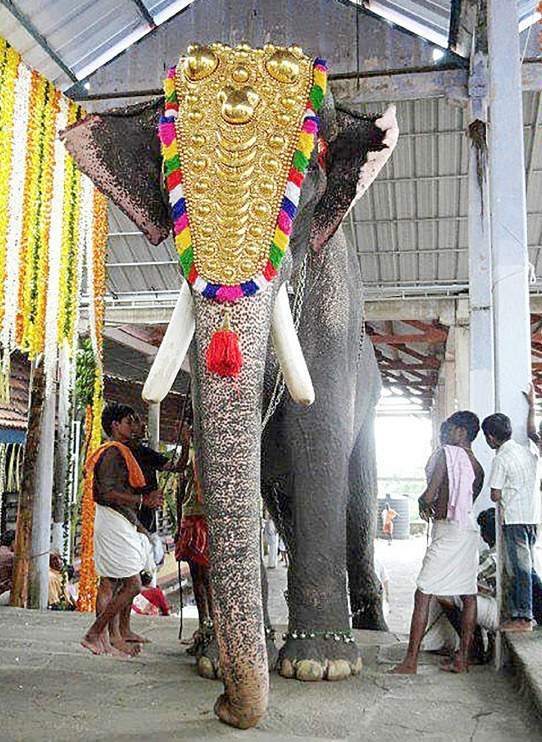Indian Elephant: (63, 73, 409, 722)
